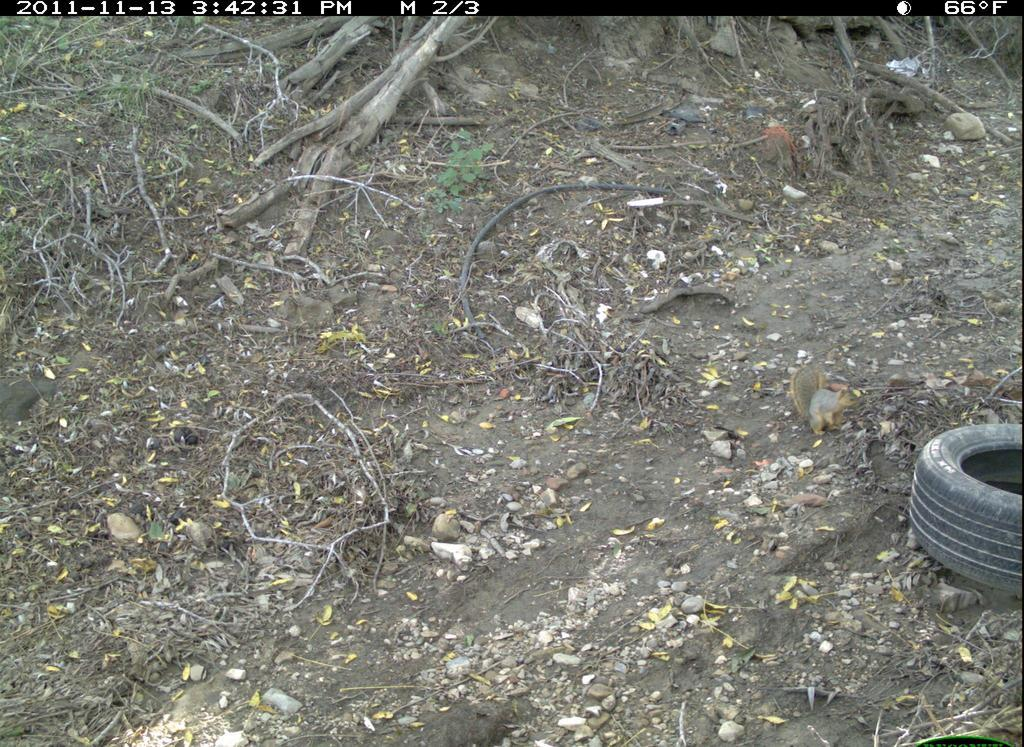squirrel: (760, 354, 875, 461)
